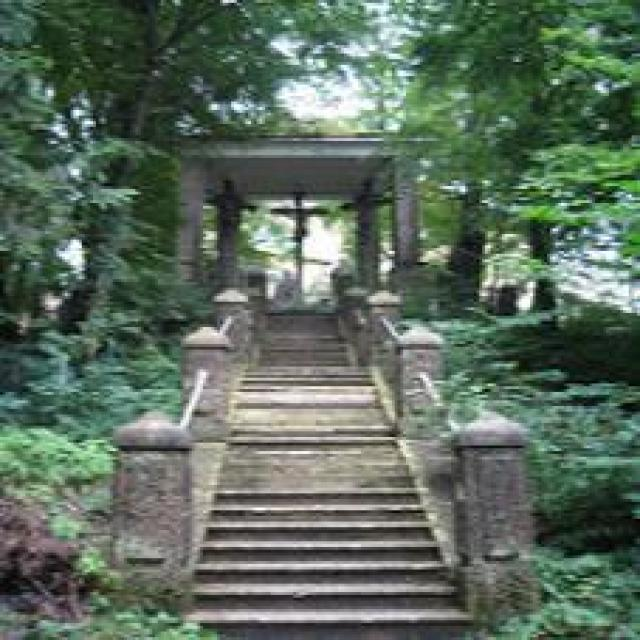upstair: (210, 390, 447, 619)
